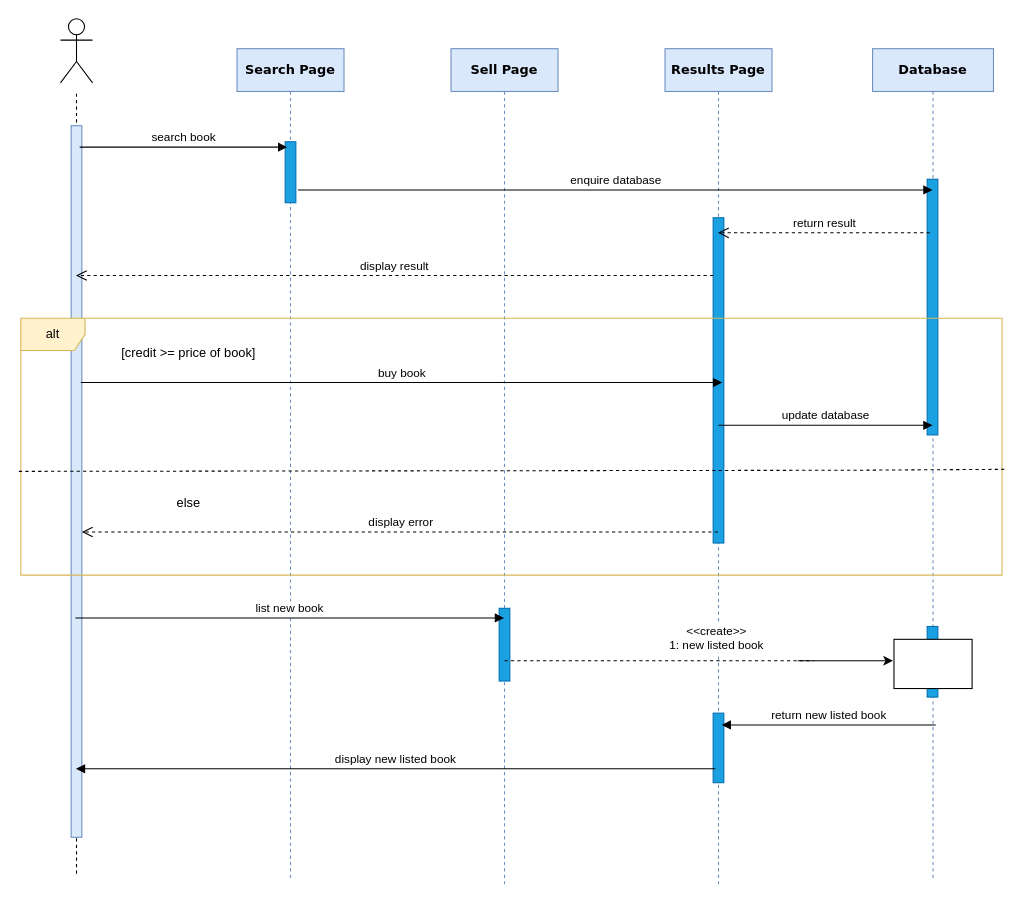
Image size: 1025x904. Some labels were removed from this diagram. Here are the shapes that lost their labels. From the top down, the centre of each, then its label:
At (x=76, y=50): "Wits Student".
At (x=932, y=663): "Name: Author: Price:".
